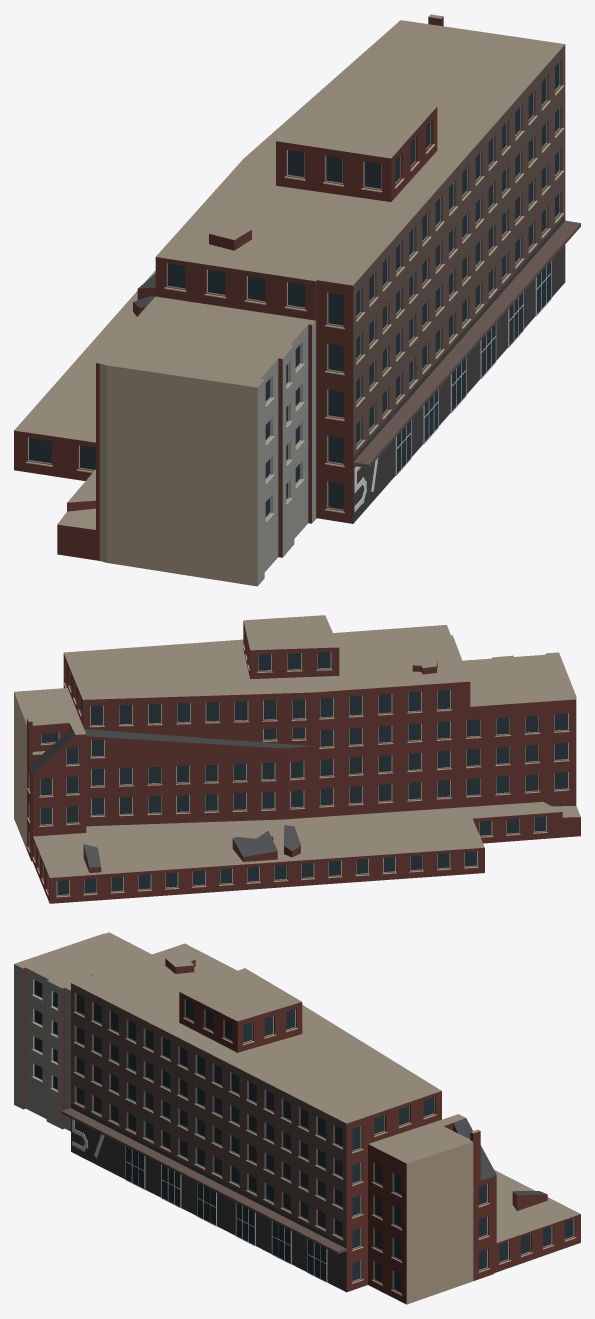
File: recipe-large-houthavens-238475.glb
The picture shows the model from 3 angles, top to bottom: view 1: azimuth 30°, elevation 25°; view 2: azimuth 150°, elevation 25°; view 3: azimuth 270°, elevation 25°; orthographic projection. The views are drawn at different scales.
Visible parts, largest first — view 1: houthavens-238475; view 2: houthavens-238475; view 3: houthavens-238475.
Boxes of the visible parts, bbox=[...] form: houthavens-238475: bbox=[14, 14, 580, 586]; houthavens-238475: bbox=[14, 615, 580, 903]; houthavens-238475: bbox=[14, 932, 580, 1304].
Bounding box in the file's own units: 57.65 × 22.38 × 57.45.
